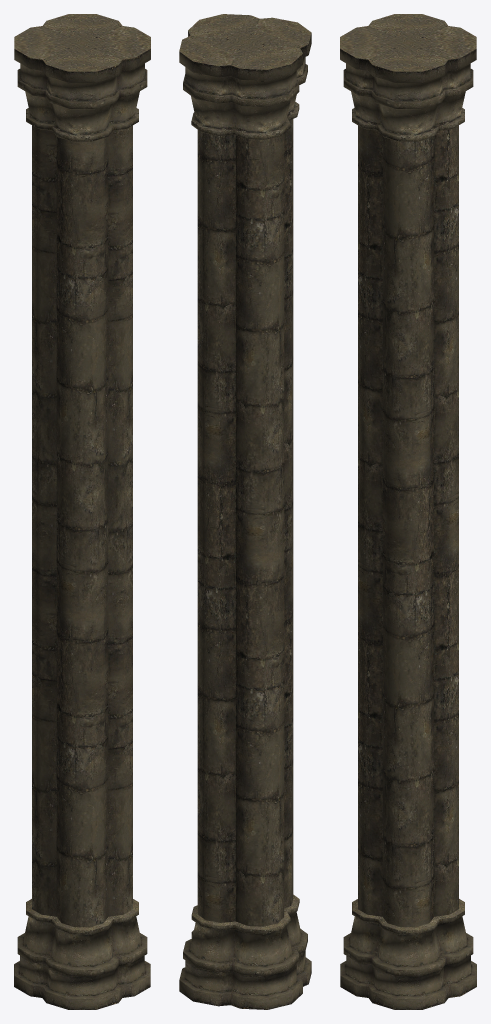
The model's file is NC_pillar_6m.DAE.
3 renders of one model, left to right at view 1: azimuth 90°, elevation 25°; view 2: azimuth 210°, elevation 25°; view 3: azimuth 270°, elevation 25°, orthographic.
Visible parts, largest first — view 1: NC_pillar_6m; view 2: NC_pillar_6m; view 3: NC_pillar_6m.
Part boxes in pixels (x1,y1,x2,y2): NC_pillar_6m: [14, 14, 150, 1009]; NC_pillar_6m: [179, 14, 311, 1009]; NC_pillar_6m: [340, 14, 476, 1009].
Size of the model in its own units: 0.7935 by 0.7942 by 6.01.
